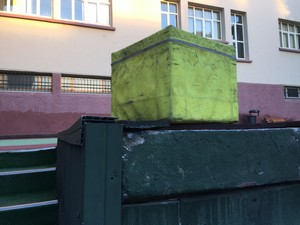cube: (115, 29, 241, 131)
